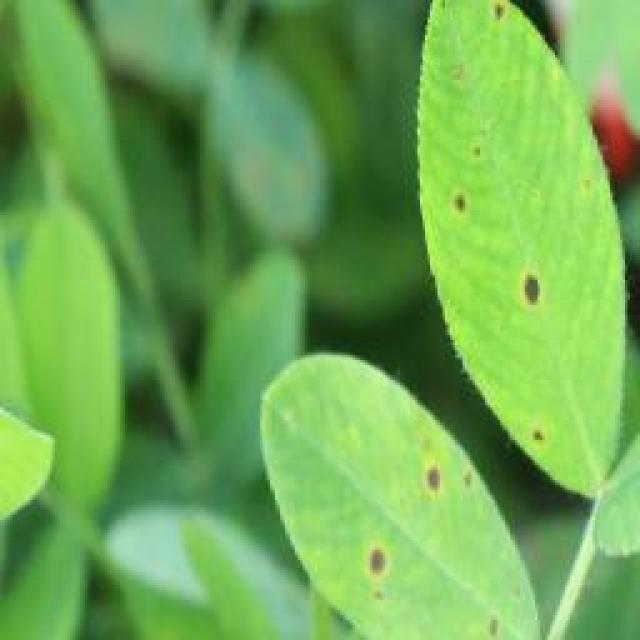Sigatoka: (444, 128, 501, 235), (501, 238, 551, 334), (344, 535, 408, 598), (511, 404, 566, 465), (414, 447, 472, 502), (460, 592, 512, 640), (468, 0, 522, 46)
